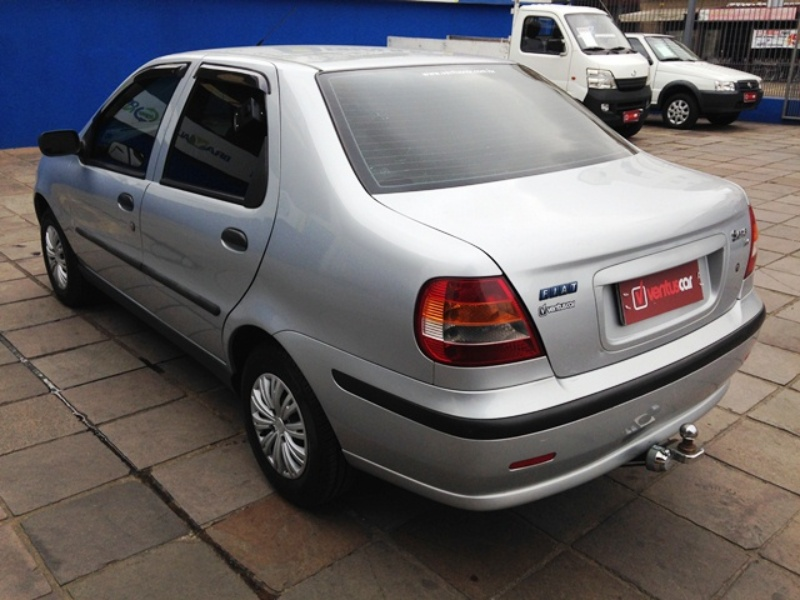Fiat Siena 2001-06: (232, 18, 776, 522), (28, 22, 428, 485)
